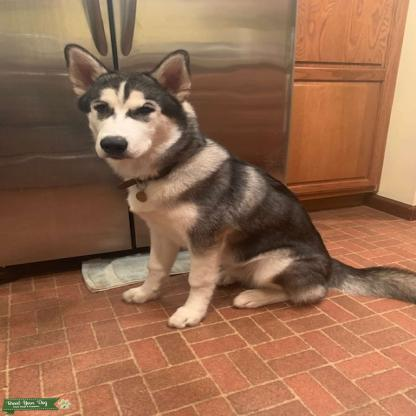husky: (60, 41, 416, 327)
